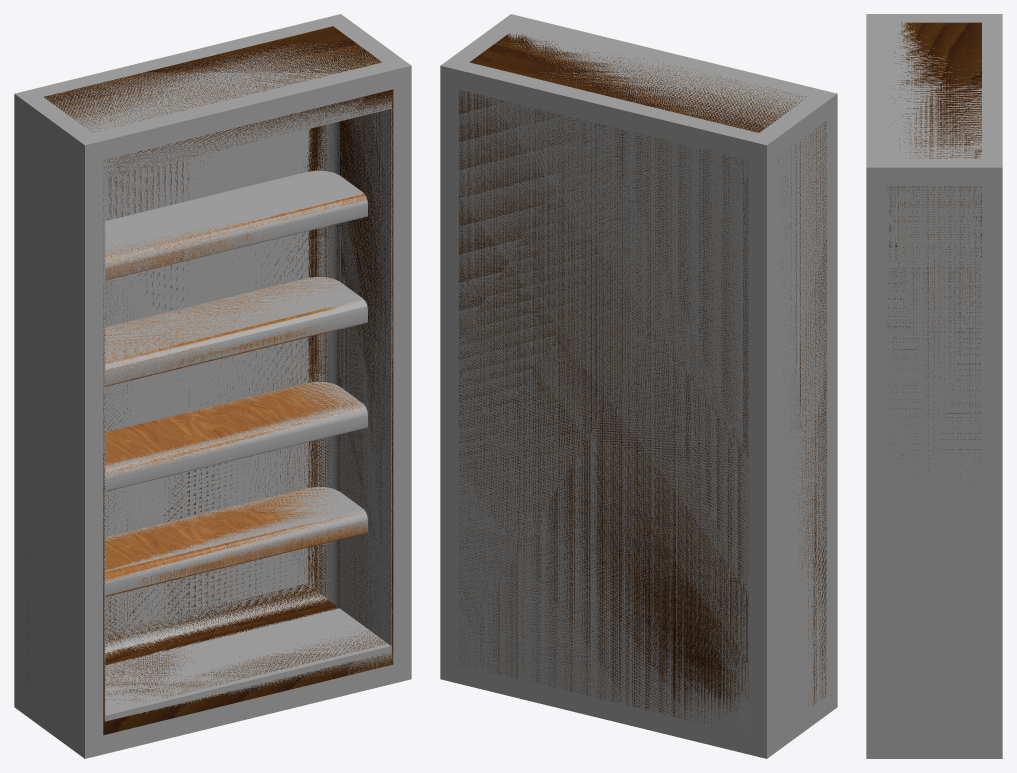
File: BookshelfFBX.fbx
The picture shows the model from 3 angles, left to right: view 1: azimuth 30°, elevation 25°; view 2: azimuth 150°, elevation 25°; view 3: azimuth 270°, elevation 25°; orthographic projection. The views are drawn at different scales.
Parts seen in each view (by area): view 1: pCube6, Base, Bookshelf, shelf_1, shelf_2, shelf_4, shelf_3; view 2: pCube6, Bookshelf, Base; view 3: pCube6, Bookshelf, Base.
Boxes of the visible parts, box(x1,y1,x2,y2) form: pCube6: box(14, 14, 411, 758); Base: box(25, 43, 393, 719); Bookshelf: box(27, 26, 393, 735); shelf_1: box(105, 170, 367, 280); shelf_2: box(105, 276, 367, 385); shelf_4: box(105, 487, 367, 595); shelf_3: box(105, 381, 367, 491); pCube6: box(440, 14, 837, 758); Bookshelf: box(458, 33, 826, 723); Base: box(459, 56, 826, 735); pCube6: box(866, 14, 1002, 758); Bookshelf: box(887, 22, 981, 494); Base: box(887, 62, 981, 502).
Size of the model in its own units: 10.61 by 19.05 by 3.98.
2 materials, 1 textured.
